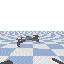drone: (15, 35, 40, 47)
